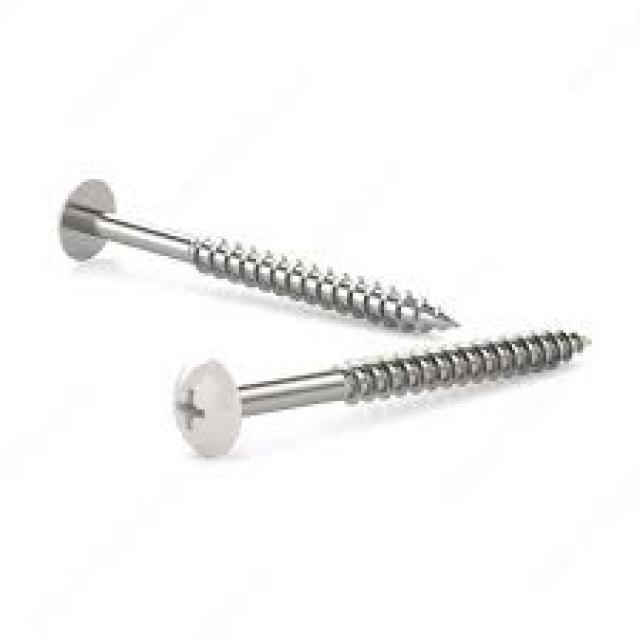Screw: (60, 179, 461, 333), (174, 330, 589, 458)
